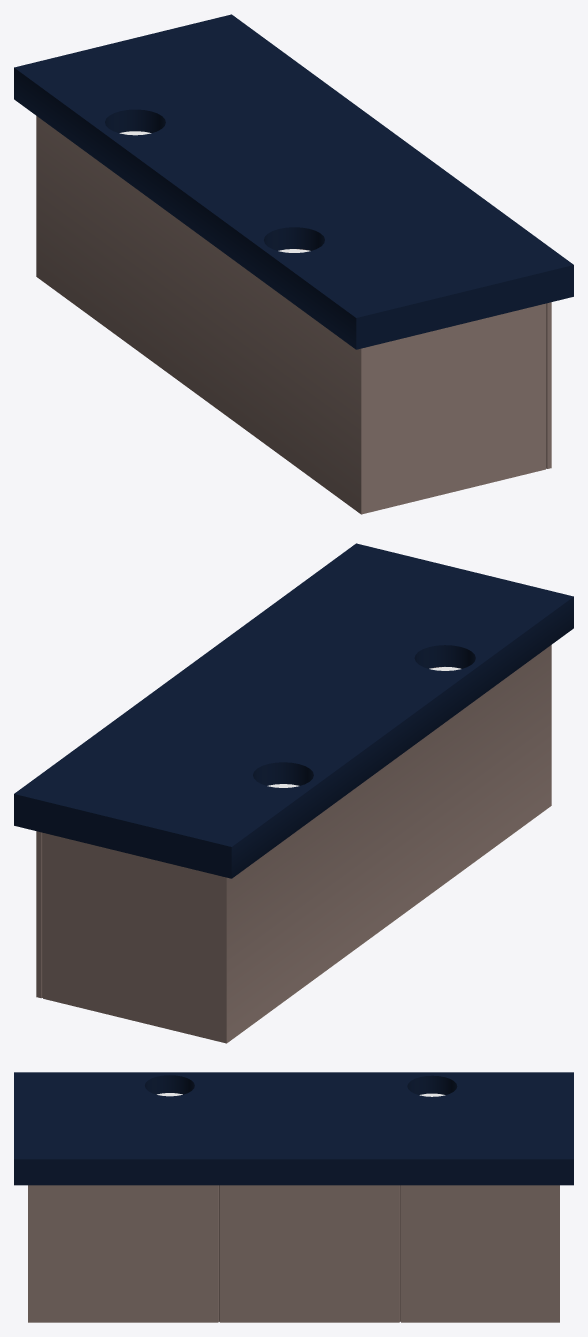
File: CounterHoles.fbx
3 views of the same model, one above another, from view 1: azimuth 30°, elevation 25°; view 2: azimuth 150°, elevation 25°; view 3: azimuth 270°, elevation 25° (orthographic). The views are drawn at different scales.
Parts seen in each view (by area): view 1: pCube2; view 2: pCube2; view 3: pCube2.
Part boxes in pixels (x1,y1,x2,y2): pCube2: (14,14,573,514); pCube2: (14,543,573,1043); pCube2: (14,1072,573,1322).
Size of the model in its own units: 21.62 by 19.56 by 58.85.
